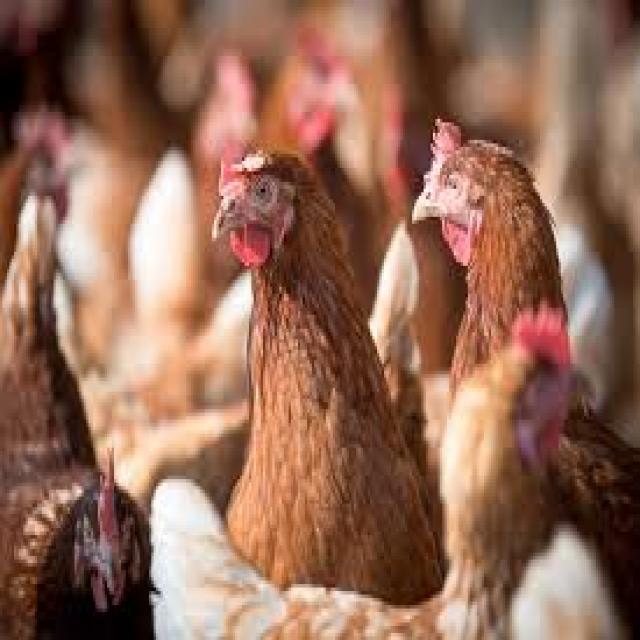Chicken: (205, 132, 408, 598), (4, 203, 154, 640), (426, 328, 633, 640), (413, 104, 598, 329)
